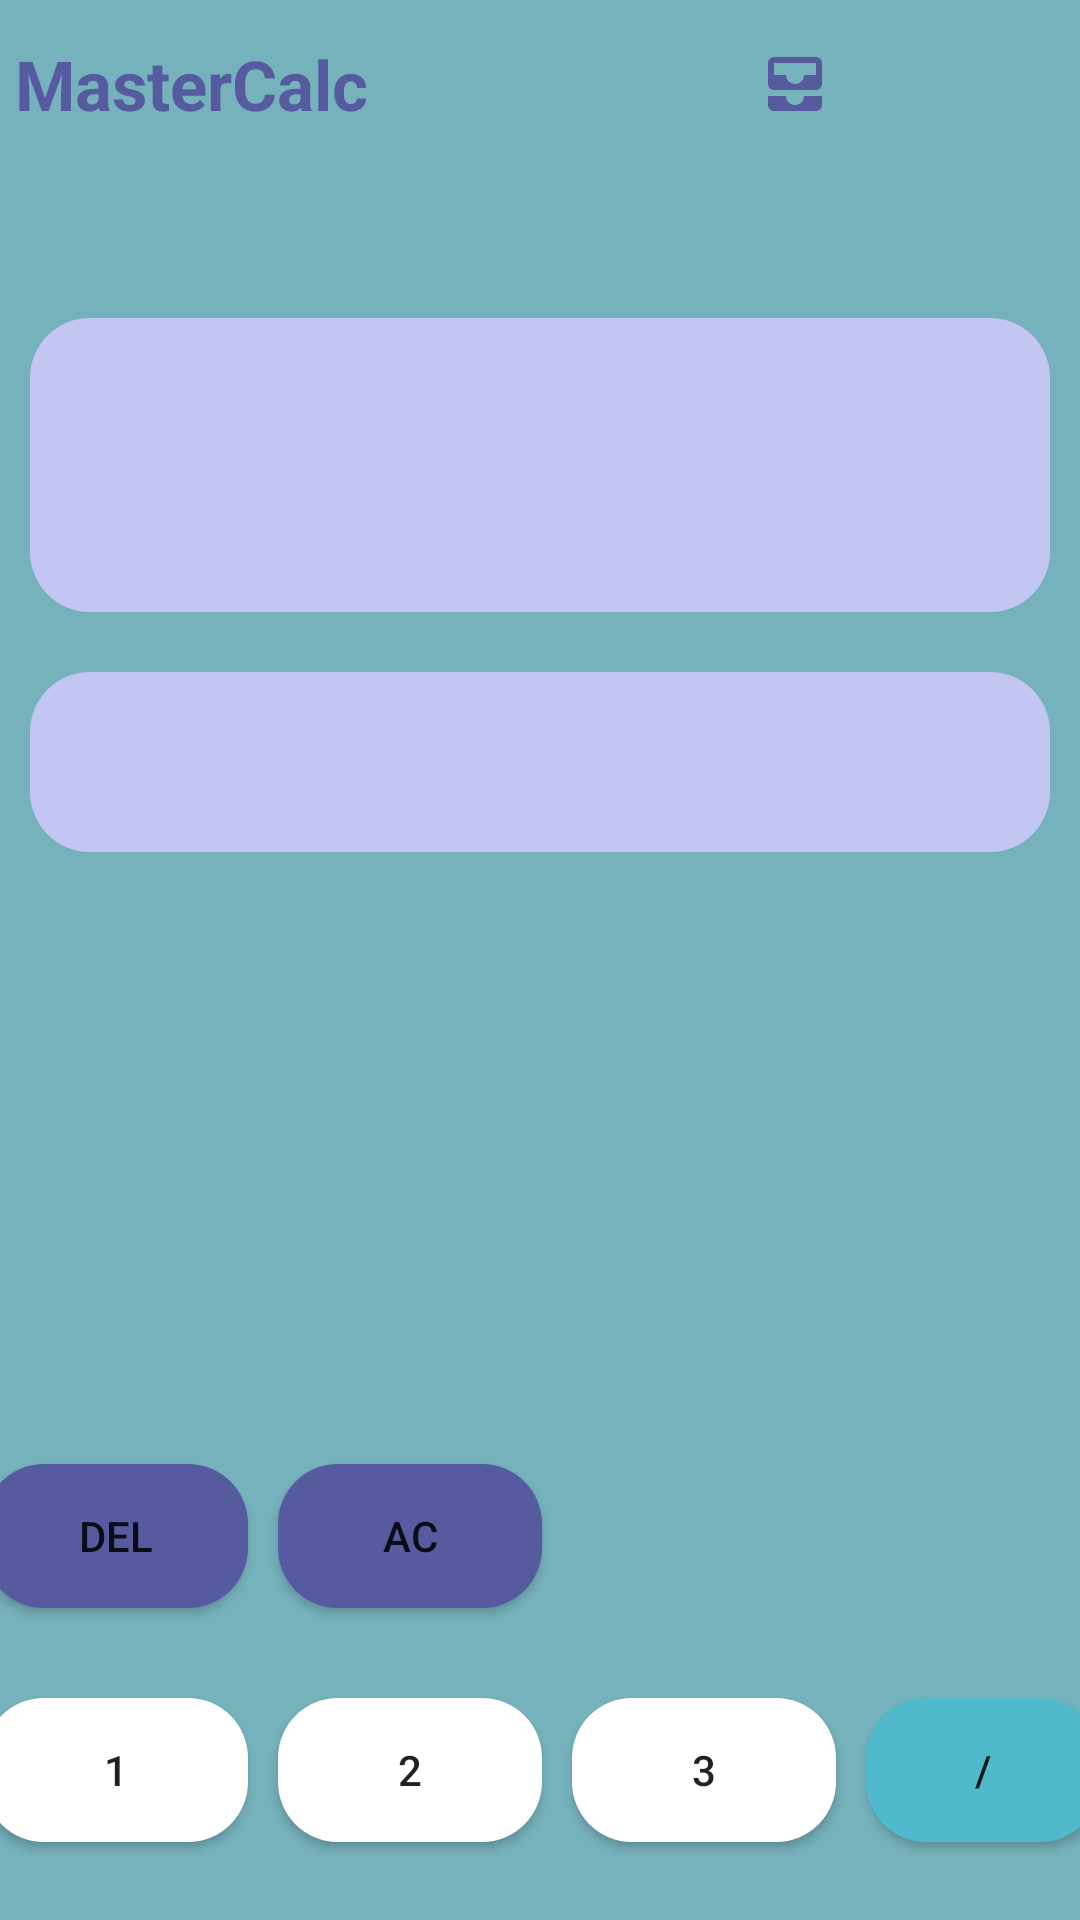

Icon click points for this 1080×1920 phone screenshot, format [x,y]:
archive: [795,84]
